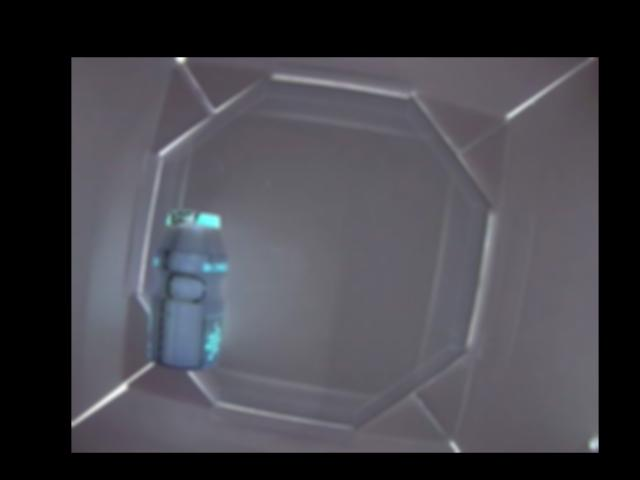Bottle: (147, 211, 229, 368)
